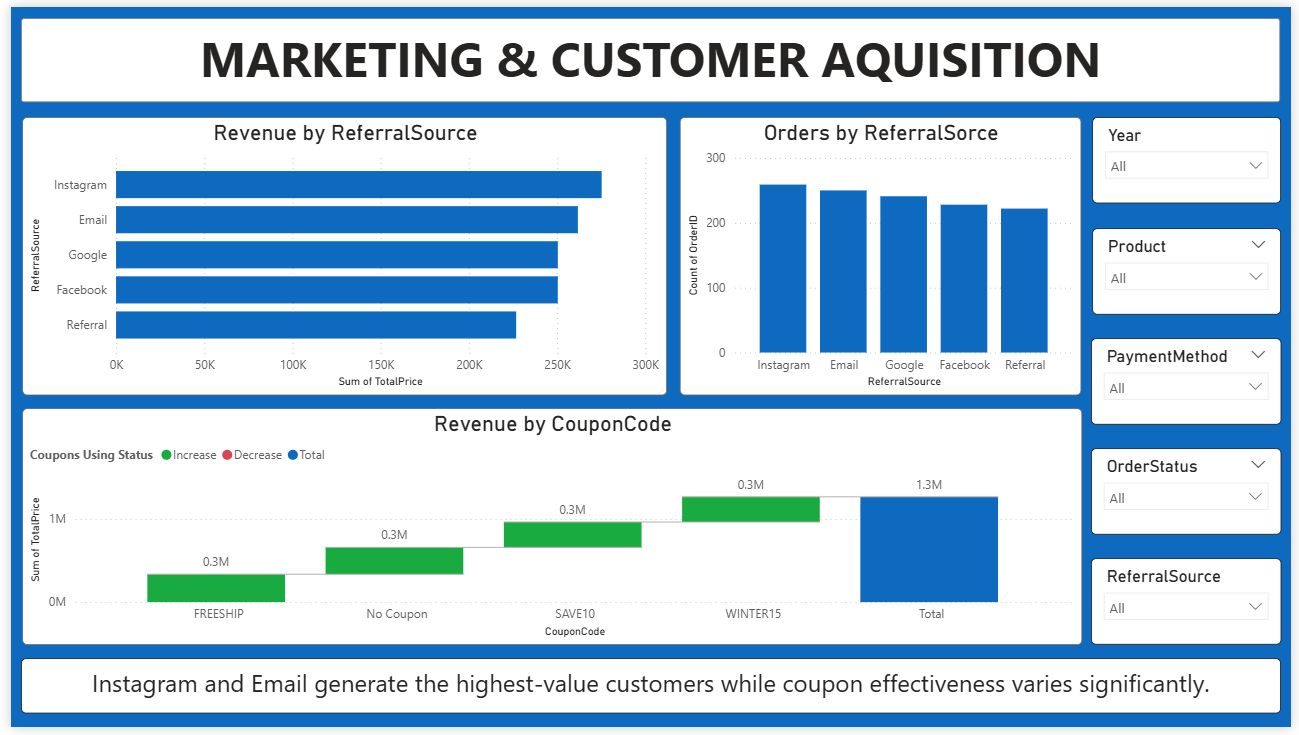

This screenshot's page, from the dashboard's own definition file:
{"tool":"powerbi","page":{"name":"Page 4","canvas":[1280,720],"ordinal":3},"visuals":[{"type":"textbox","box":[10.1,11.5,1259.5,83.7],"z":0},{"type":"textbox","box":[10,651.7,1260,55],"z":1000},{"type":"slicer","fields":{"Values":["E-Commerce Orders.Date.Variation.Date Hierarchy.Year"]},"box":[1080.6,109.6,189,86.6],"z":2000},{"type":"barChart","title":"Revenue by ReferralSource","fields":{"Category":["E-Commerce Orders.ReferralSource"],"Y":["Sum(E-Commerce Orders.TotalPrice)"]},"box":[11.7,110,645,278.3],"z":3000},{"type":"slicer","fields":{"Values":["E-Commerce Orders.Product"]},"box":[1080.9,220.9,189.1,86.4],"z":4000},{"type":"slicer","fields":{"Values":["E-Commerce Orders.PaymentMethod"]},"box":[1080,331.8,190,86.4],"z":5000},{"type":"slicer","fields":{"Values":["E-Commerce Orders.OrderStatus"]},"box":[1080,441.8,190,86.4],"z":6000},{"type":"slicer","fields":{"Values":["E-Commerce Orders.ReferralSource"]},"box":[1080,551.7,190,86.7],"z":7000},{"type":"waterfallChart","title":"Revenue by CouponCode","fields":{"Y":["Sum(E-Commerce Orders.TotalPrice)"],"Category":["E-Commerce Orders.CouponCode"]},"box":[11.7,401.7,1060,236.7],"z":8000},{"type":"columnChart","title":"Orders by ReferralSorce","fields":{"Category":["E-Commerce Orders.ReferralSource"],"Y":["CountNonNull(E-Commerce Orders.OrderID)"]},"box":[668.3,110,401.7,278.3],"z":9000}]}

Visuals, with their boxes in screenshot pixels (x1, y1, x2, y2), scaled from the page's 1280x720 canvas onto the 1299x735 screenshot:
textbox: BBox(10, 12, 1288, 97)
textbox: BBox(10, 665, 1289, 721)
slicer - E-Commerce Orders.Date.Variation.Date Hierarchy.Year: BBox(1097, 112, 1288, 200)
"Revenue by ReferralSource" barChart: BBox(12, 112, 666, 396)
slicer - E-Commerce Orders.Product: BBox(1097, 226, 1289, 314)
slicer - E-Commerce Orders.PaymentMethod: BBox(1096, 339, 1289, 427)
slicer - E-Commerce Orders.OrderStatus: BBox(1096, 451, 1289, 539)
slicer - E-Commerce Orders.ReferralSource: BBox(1096, 563, 1289, 652)
"Revenue by CouponCode" waterfallChart: BBox(12, 410, 1088, 652)
"Orders by ReferralSorce" columnChart: BBox(678, 112, 1086, 396)
